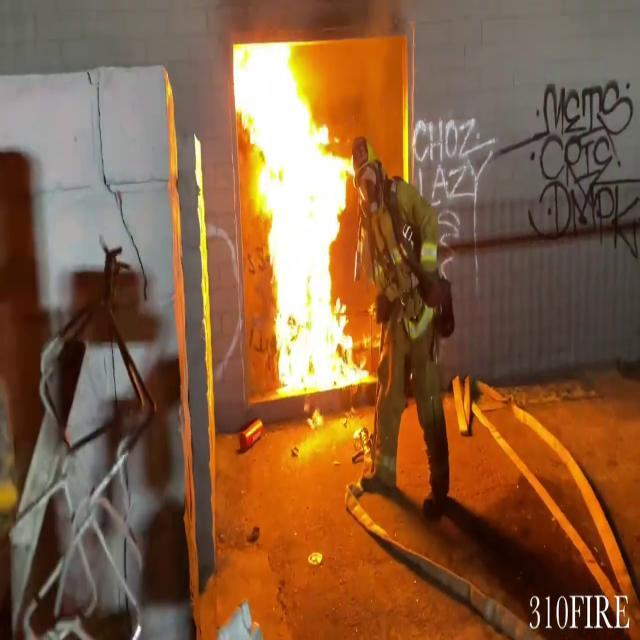Fire: (234, 36, 366, 392)
